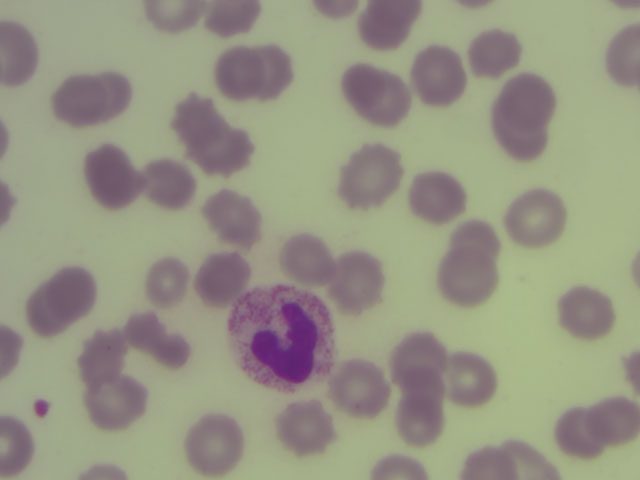Platelets: (35, 400, 48, 419)
RBC: (185, 417, 247, 475), (83, 148, 140, 205), (411, 46, 465, 104), (351, 143, 399, 206), (554, 401, 604, 461), (511, 192, 564, 248), (280, 234, 336, 287), (207, 188, 259, 244), (445, 247, 494, 306), (49, 260, 97, 320), (559, 287, 614, 339), (444, 353, 502, 401), (495, 104, 549, 155), (333, 258, 386, 309), (91, 383, 148, 430), (416, 174, 468, 225), (504, 73, 556, 124), (282, 403, 335, 453), (200, 117, 249, 171), (198, 253, 252, 302), (82, 331, 130, 386), (1, 22, 39, 89), (399, 392, 447, 445), (338, 367, 388, 417), (59, 78, 107, 125), (222, 51, 263, 105), (505, 439, 559, 480), (151, 160, 196, 208), (174, 95, 214, 146), (28, 285, 65, 339), (2, 417, 35, 477), (148, 257, 188, 306), (199, 3, 260, 35), (343, 61, 386, 106), (458, 216, 498, 264), (372, 75, 410, 124), (595, 402, 640, 443), (475, 31, 516, 75), (611, 25, 640, 85), (361, 10, 406, 48), (387, 363, 440, 395), (146, 2, 205, 30), (260, 45, 295, 92), (397, 332, 440, 370), (374, 451, 429, 480), (95, 70, 131, 114), (466, 446, 508, 480), (368, 1, 425, 25), (151, 333, 191, 367), (124, 310, 161, 344), (1, 326, 19, 378), (81, 464, 137, 480), (312, 2, 355, 18), (2, 181, 16, 227), (625, 348, 640, 390), (3, 123, 8, 156)
WBC: (232, 285, 334, 393)
